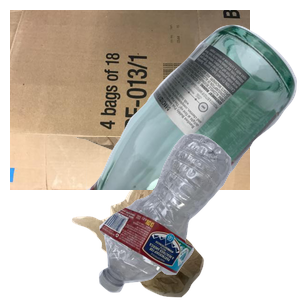cardboard: (10, 10, 250, 190)
glass: (86, 22, 300, 202)
plastic: (96, 131, 300, 300)
trash: (66, 137, 263, 300)
